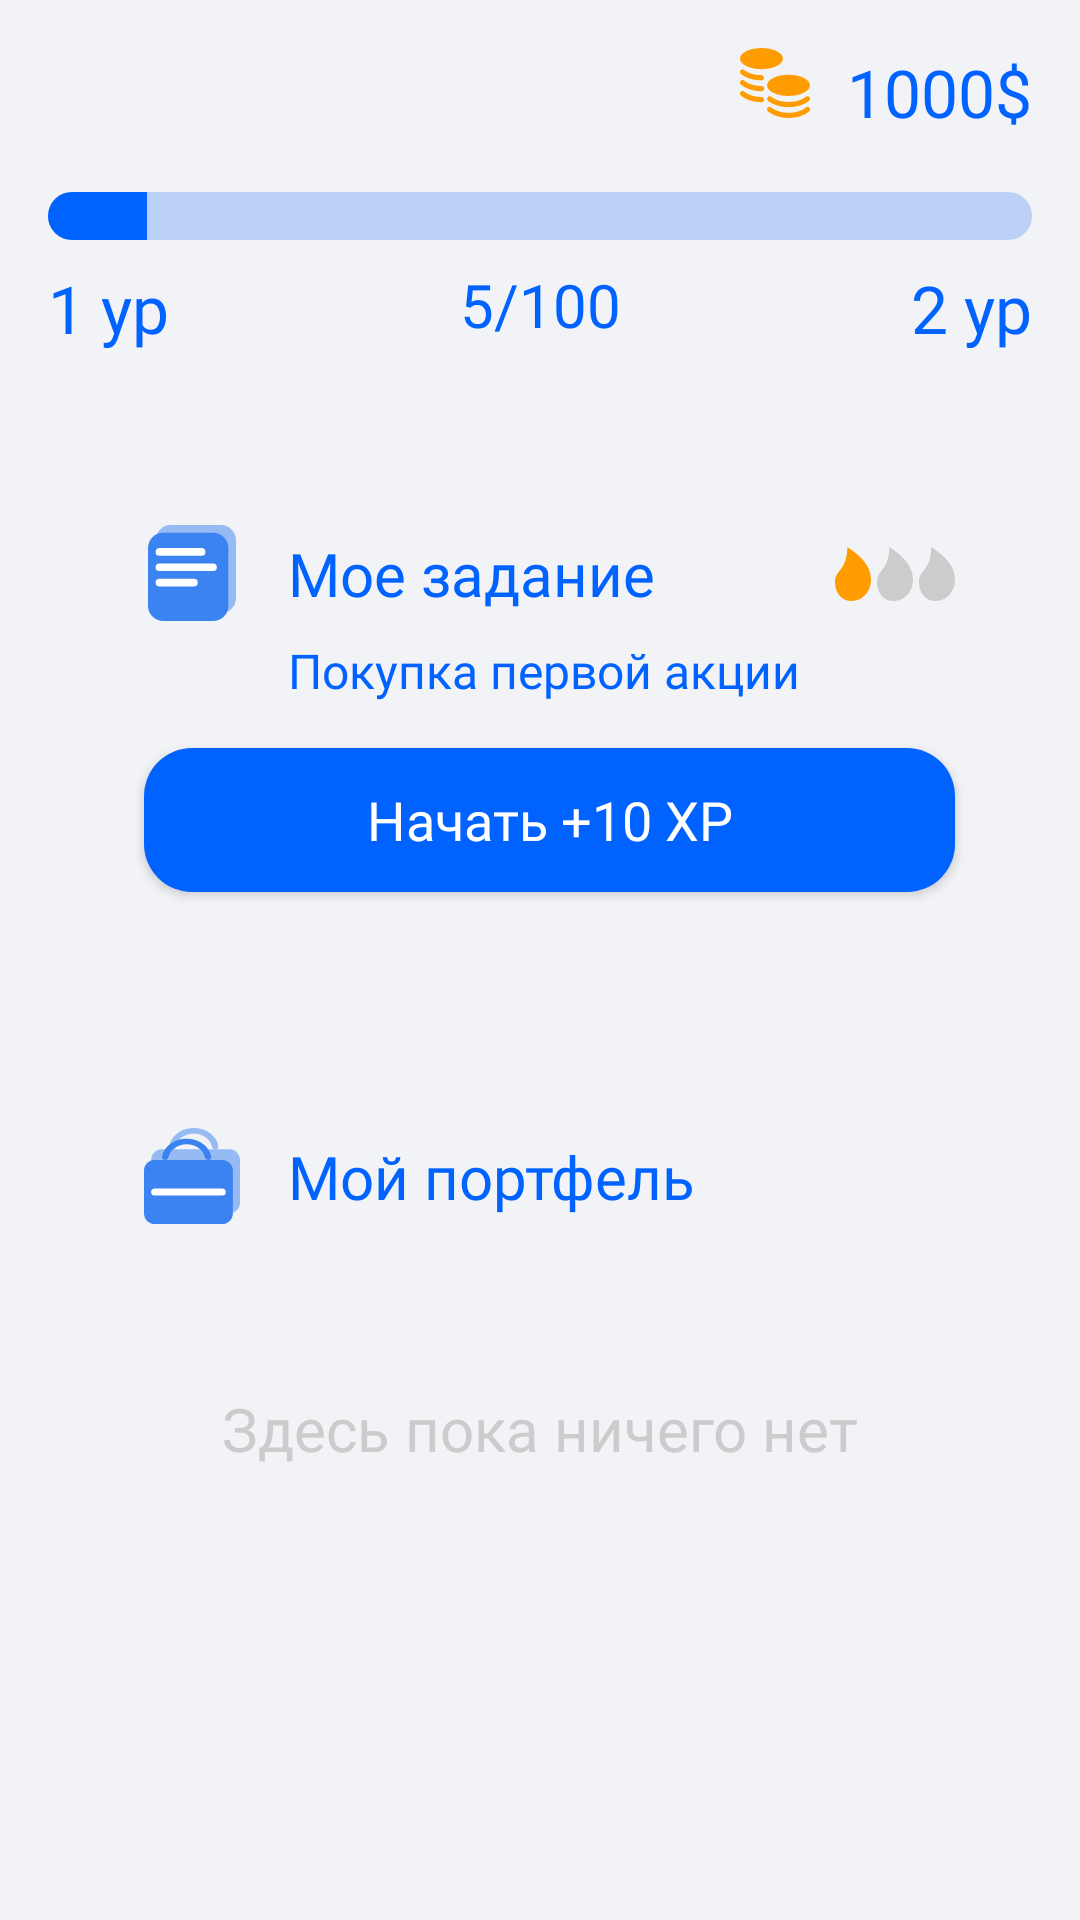

Icons on this 1080x1920 Android screen, each with the point to tap as (x,y):
bag: (192,1176)
coins: (775,83)
